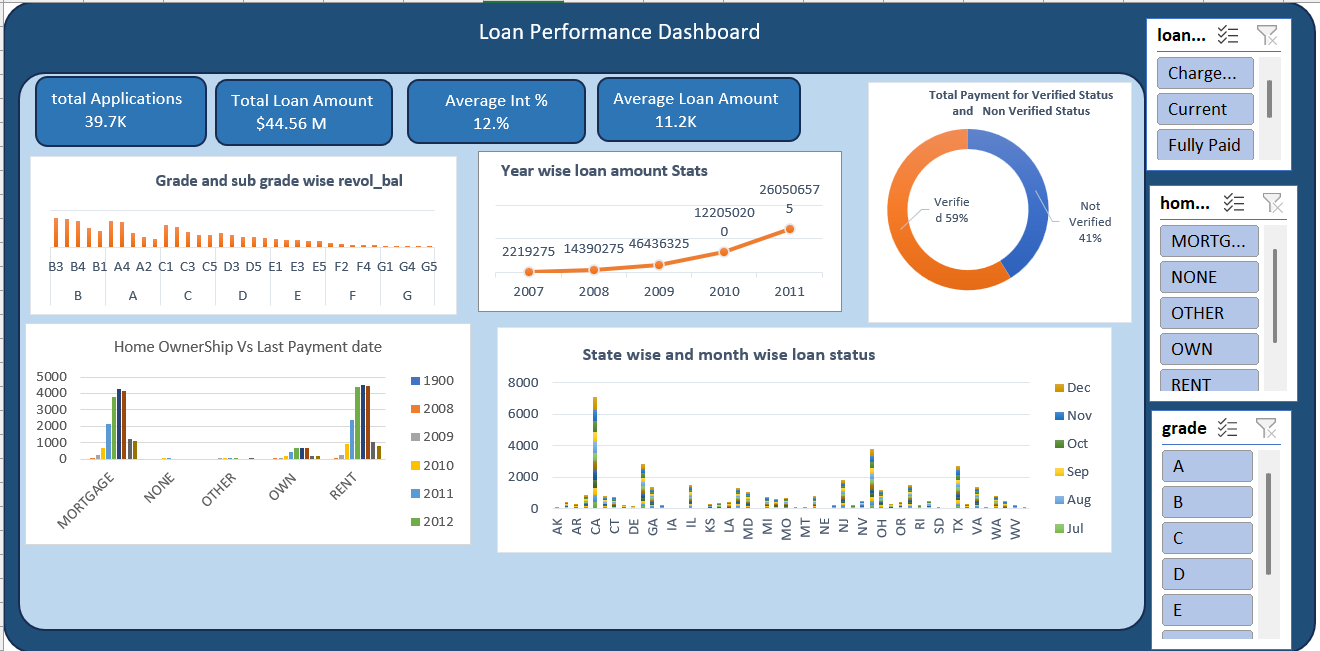

The dashboard page shown, as its layout file describes it:
{"tool":"tableau","page":{"name":"Dashboard 1","canvas":[1000,1000],"units":"permille","ordinal":0},"visuals":[{"type":"worksheet","title":"Sheet 6","mark":"Automatic","box":[4.8,9.9,990.3,156.6]},{"type":"worksheet","title":"Q1","mark":"Automatic","rows":["Calculation_452893238029520896"],"cols":["loan_amnt"],"box":[4.8,166.5,844.9,258.8]},{"type":"filter","title":"Q1","param":"[federated.10lv01j1fj7xnv1e9vdkz1kqmt2v].[yr:Calculation_452893238029520896:ok]","box":[849.7,166.5,145.4,234.3]},{"type":"filter","title":"Q1","param":"[federated.10lv01j1fj7xnv1e9vdkz1kqmt2v].[qr:Calculation_452893238029520896:ok]","box":[849.7,400.7,145.4,205.9]},{"type":"worksheet","title":"Q2","mark":"Bar","rows":["revol_bal"],"cols":["grade","sub_grade"],"box":[4.8,425.3,602.3,215.3]},{"type":"worksheet","title":"Q3","mark":"Pie","box":[607.1,425.3,242.6,215.3]},{"type":"worksheet","title":"Q4","mark":"Automatic","rows":["id"],"cols":["Calculation_452893238029520896"],"box":[4.8,640.6,422.4,349.6]},{"type":"worksheet","title":"Q5","mark":"Bar","rows":["total_rec_int"],"cols":["home_ownership"],"box":[427.3,640.6,422.4,349.6]}]}

Visuals, with their boxes on the dashboard's canvas, which has no fixed pixel size, in thousandths of its width and height (x1, y1, x2, y2). These are canvas units, not pixel positions in the 1320x651 screenshot, which may show the page scaled, cropped or inside an application window:
"Sheet 6" worksheet: left=5, top=10, right=995, bottom=166
"Q1" worksheet: left=5, top=166, right=850, bottom=425
"Q1" filter: left=850, top=166, right=995, bottom=401
"Q1" filter: left=850, top=401, right=995, bottom=607
"Q2" worksheet (Bar marks): left=5, top=425, right=607, bottom=641
"Q3" worksheet (Pie marks): left=607, top=425, right=850, bottom=641
"Q4" worksheet: left=5, top=641, right=427, bottom=990
"Q5" worksheet (Bar marks): left=427, top=641, right=850, bottom=990
